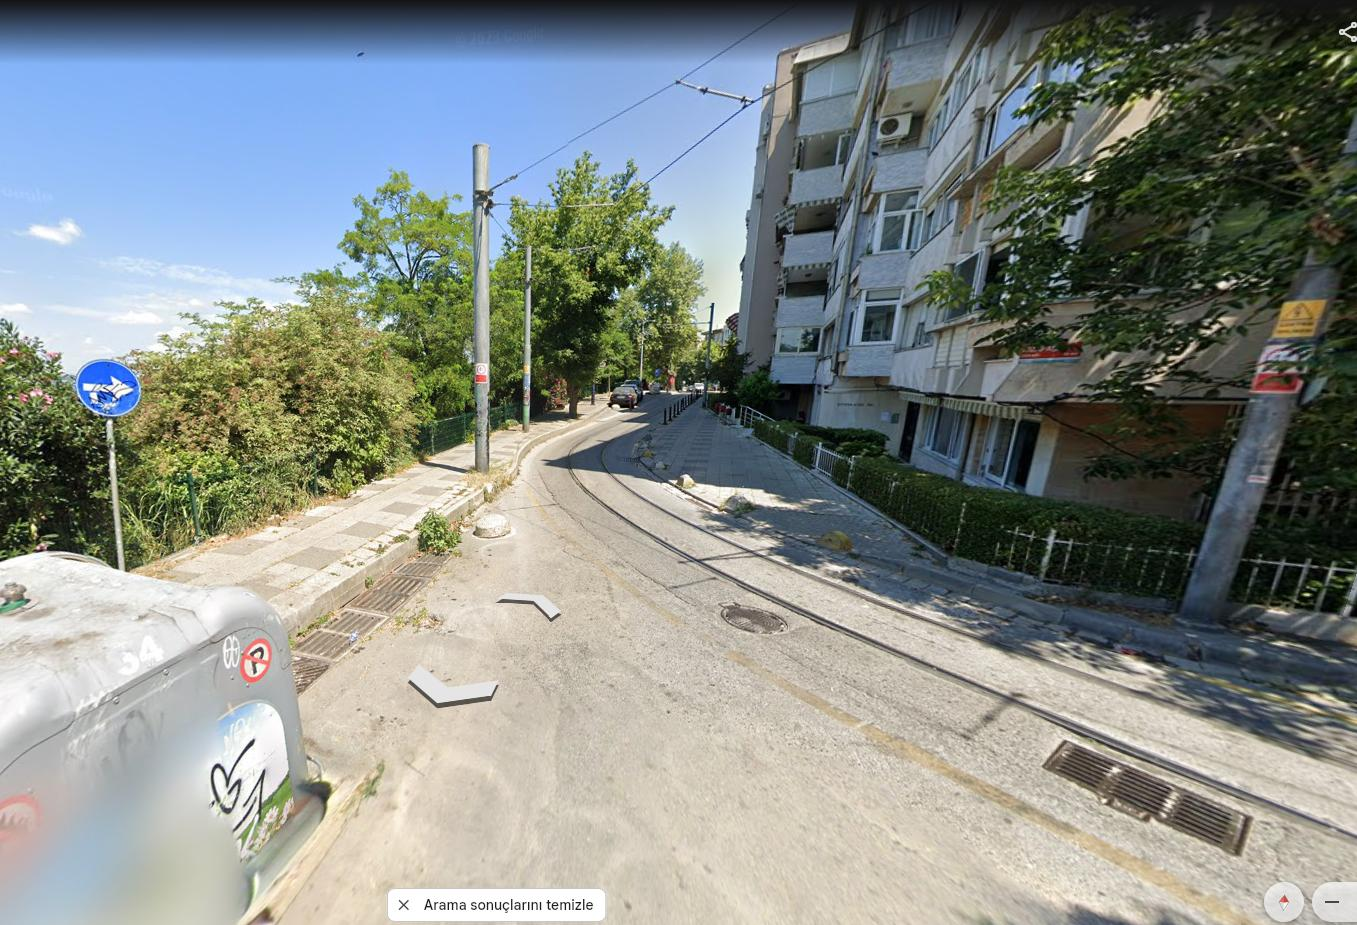nopark: (240, 638, 274, 683)
turnright: (78, 361, 138, 416)
